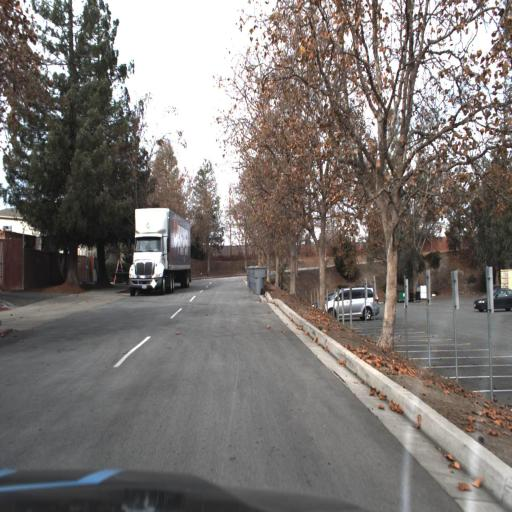car: (318, 286, 381, 322), (471, 285, 511, 314)
truck: (126, 205, 191, 297)
